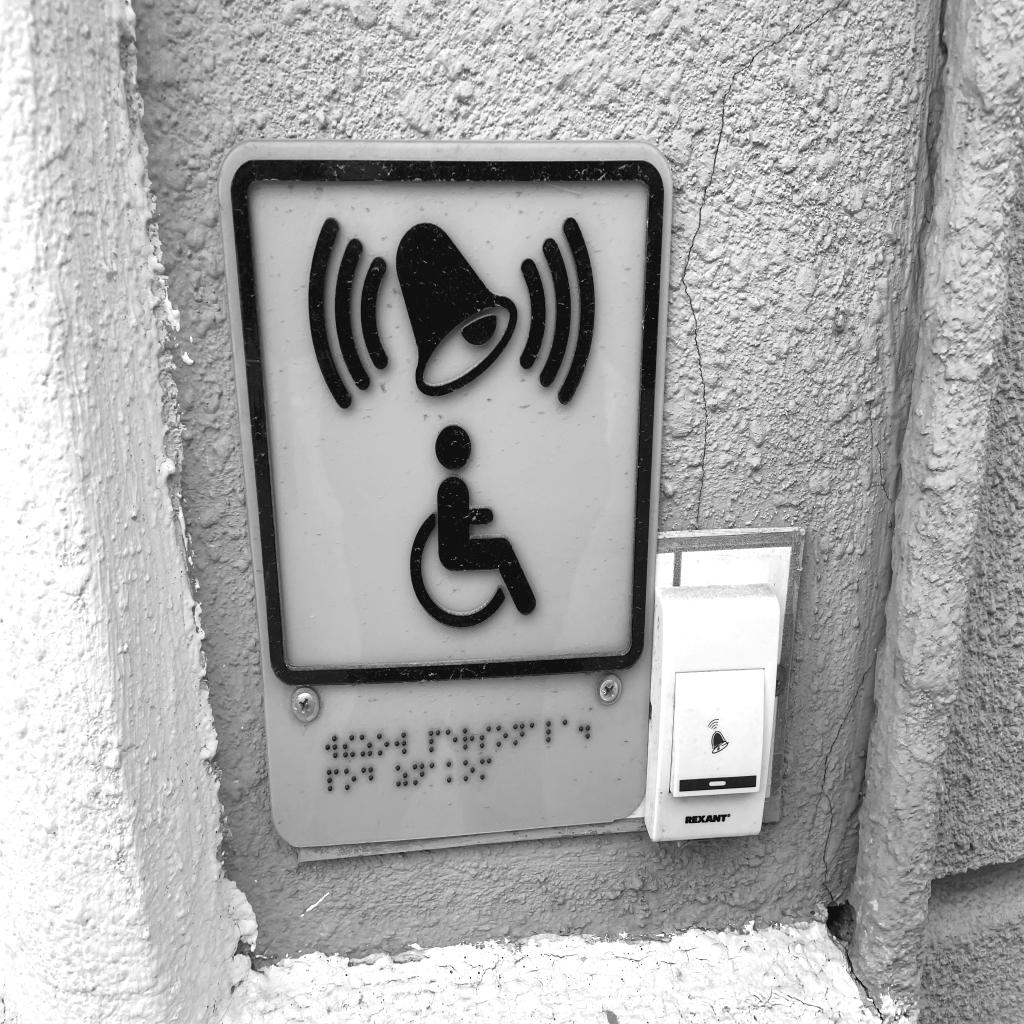_n: (412, 763, 425, 786), (513, 722, 525, 746)
a: (429, 762, 441, 786), (529, 722, 541, 745), (562, 719, 574, 742)
d: (361, 766, 373, 791)
e: (445, 728, 458, 752)
ii: (342, 735, 355, 758)
k: (446, 761, 458, 784)
l: (545, 720, 558, 743)
m: (480, 758, 492, 781)
o: (377, 733, 390, 756), (344, 768, 357, 791), (496, 724, 508, 747), (463, 759, 475, 782)
p: (326, 768, 339, 792), (428, 730, 441, 753)
r: (462, 727, 475, 750)
s: (479, 725, 492, 749)
tochka: (579, 717, 591, 740)
v: (325, 735, 338, 759), (394, 731, 407, 755)
z: (360, 734, 373, 757), (395, 764, 408, 787)
